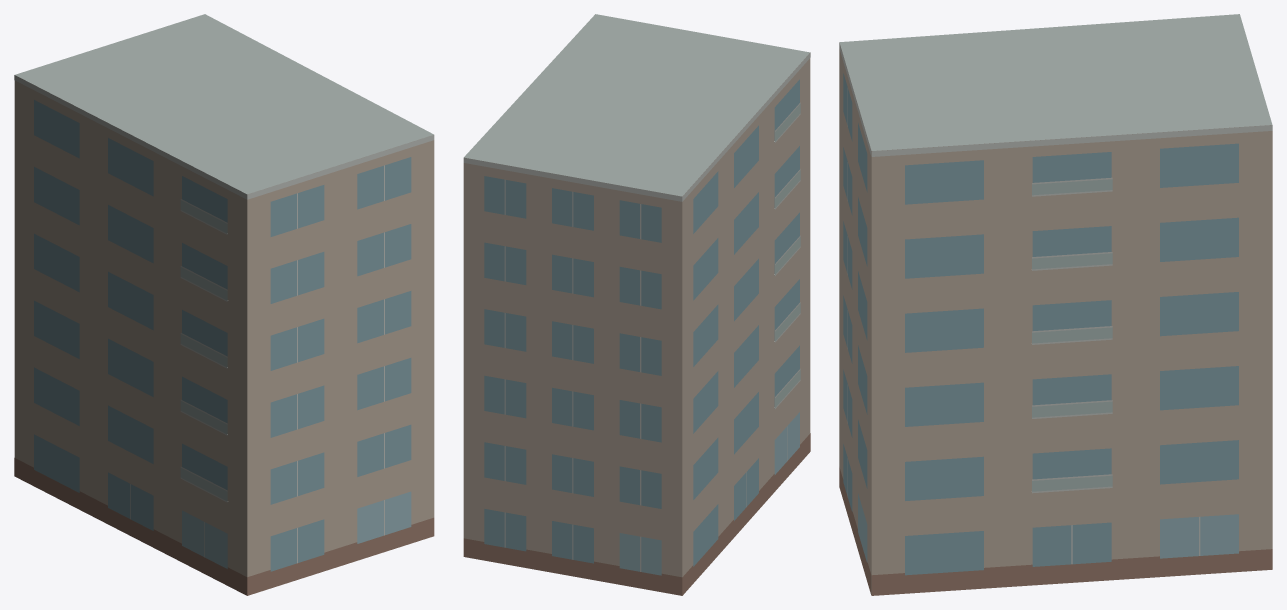
Rendered from survey-upis-32740749.glb.
3 renders of one model, left to right at view 1: azimuth 30°, elevation 25°; view 2: azimuth 150°, elevation 25°; view 3: azimuth 270°, elevation 25°, orthographic. The views are drawn at different scales.
Parts seen in each view (by area): view 1: survey-upis-32740749.tmp; view 2: survey-upis-32740749.tmp; view 3: survey-upis-32740749.tmp.
Boxes of the visible parts, x1,y1,x2,y2 form: survey-upis-32740749.tmp: (14,14,434,595); survey-upis-32740749.tmp: (463,14,810,595); survey-upis-32740749.tmp: (839,14,1272,595).
Bounding box in the file's own units: 12.11 × 18.3 × 16.16.
